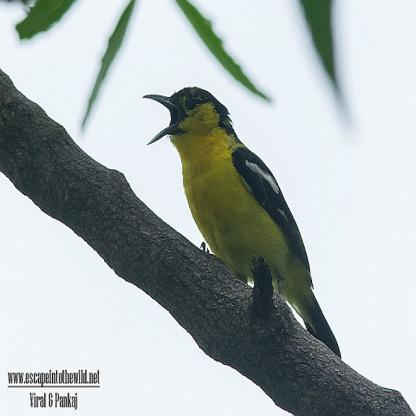Burung: (142, 87, 340, 357)
